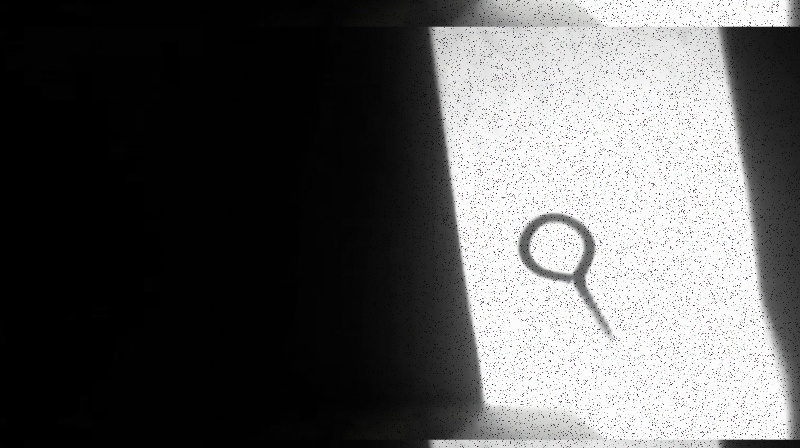O001: (514, 210, 621, 344)
